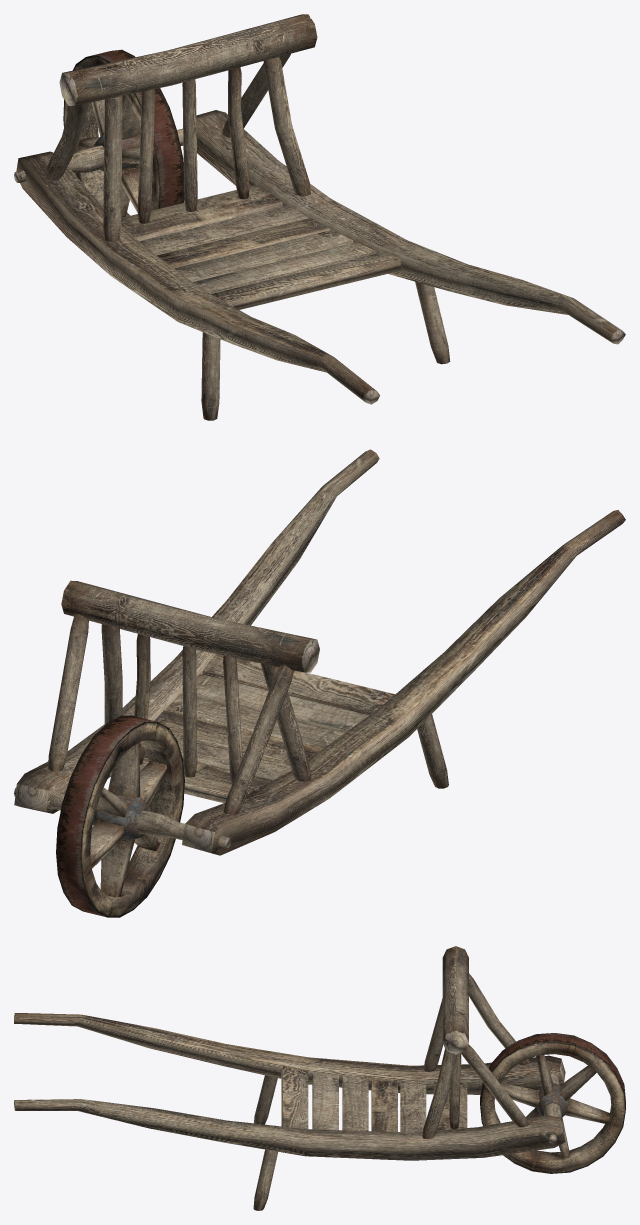
Rendered from Wheelbarrow(GR).fbx.
3 views of the same model, one above another, from view 1: azimuth 30°, elevation 25°; view 2: azimuth 150°, elevation 25°; view 3: azimuth 270°, elevation 25° (orthographic). The views are drawn at different scales.
Visible parts, largest first — view 1: obj1; view 2: obj1; view 3: obj1.
Boxes of the visible parts, x1,y1,x2,y2 form: obj1: [14, 14, 625, 420]; obj1: [14, 449, 625, 917]; obj1: [14, 946, 625, 1210].
Size of the model in its own units: 847 by 764 by 2353.
1 material, 1 textured.
